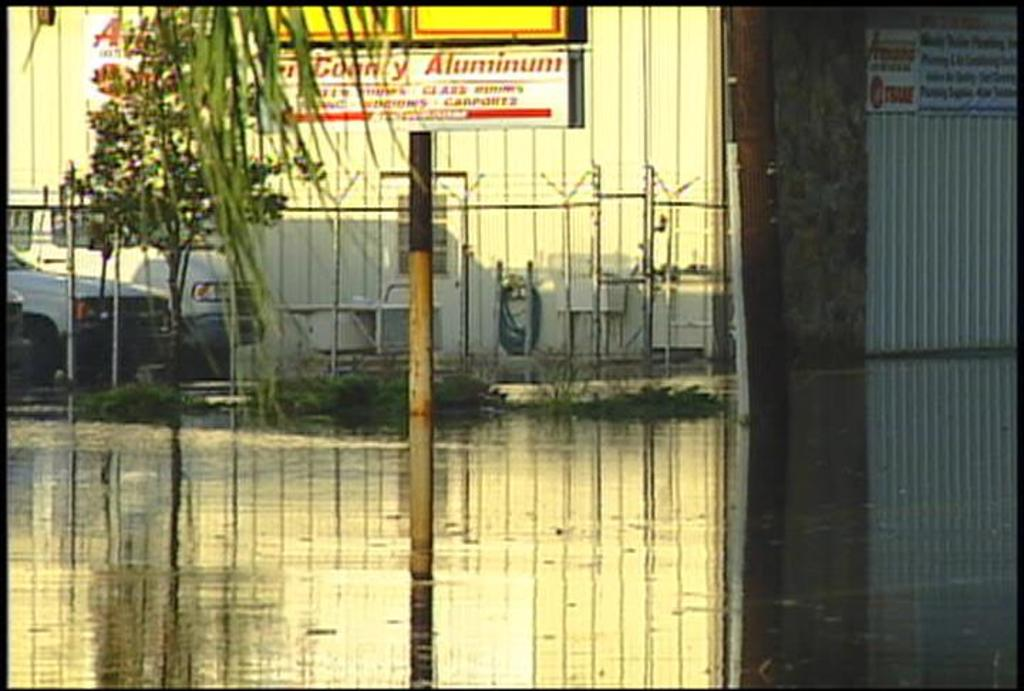Car: (4, 240, 176, 395)
